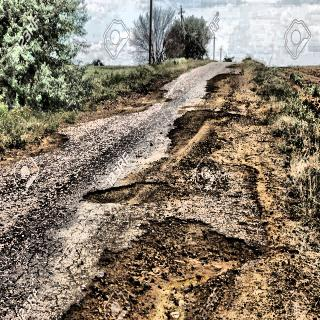alligator-crack: (2, 235, 65, 320)
pothole: (56, 214, 259, 320), (78, 177, 180, 207)
